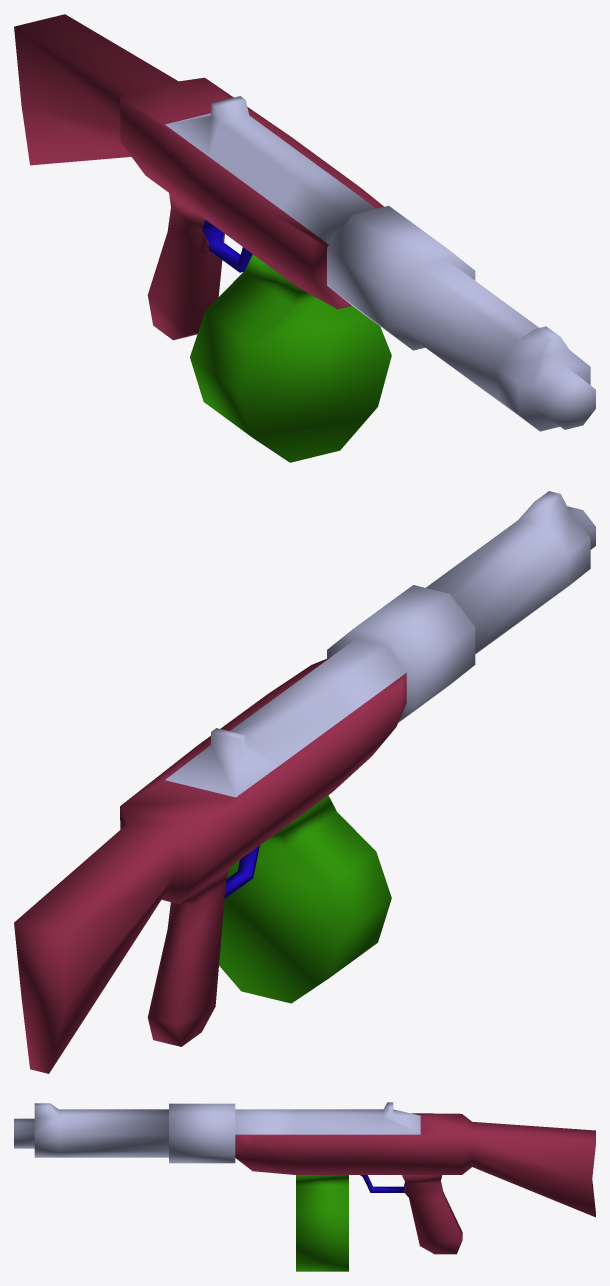
The model's file is gun1.fbx.
The picture shows the model from 3 angles, top to bottom: view 1: azimuth 30°, elevation 25°; view 2: azimuth 150°, elevation 25°; view 3: azimuth 270°, elevation 25°; orthographic projection. The views are drawn at different scales.
Parts seen in each view (by area): view 1: GUN_big; view 2: GUN_big; view 3: GUN_big.
Part boxes in pixels (bbox=[...]): GUN_big: bbox=[14, 14, 595, 462]; GUN_big: bbox=[14, 491, 595, 1073]; GUN_big: bbox=[14, 1102, 595, 1271].
Bounding box in the file's own units: 26.57 × 48.57 × 160.
